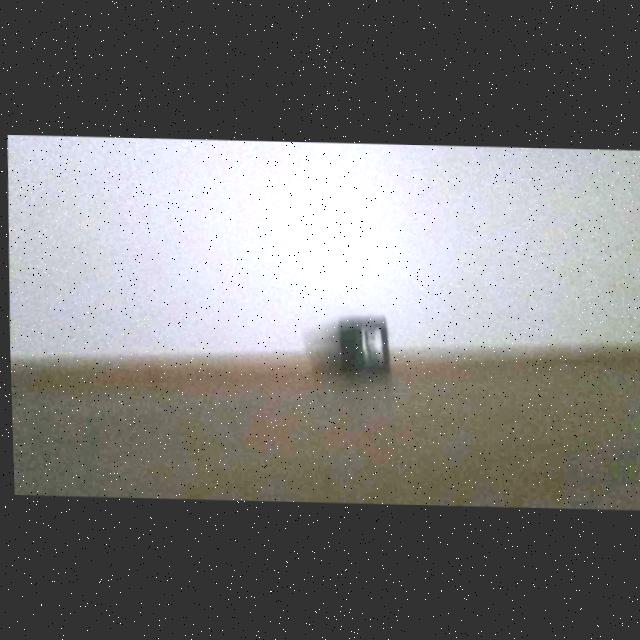E: (361, 330, 375, 350)
